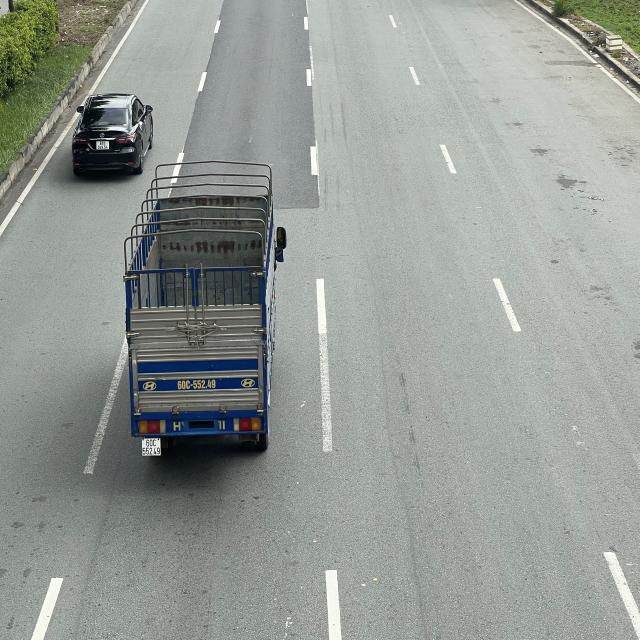car: (70, 90, 155, 175)
truck: (122, 159, 286, 457)
